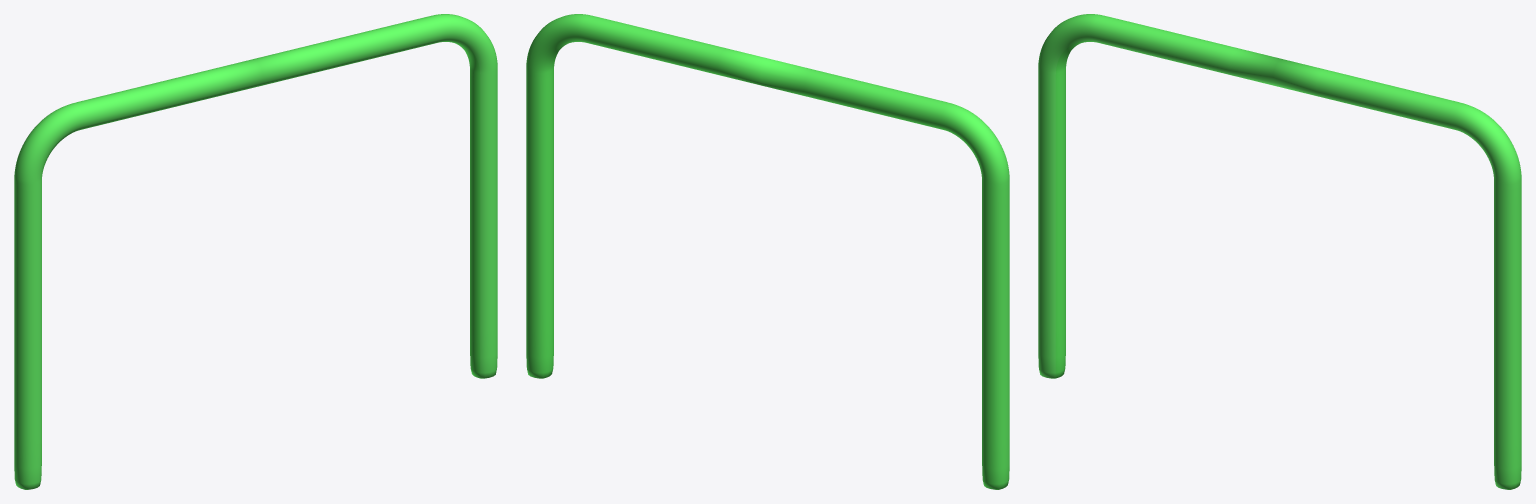
Rendered from trap_fencebig_3.glb.
3 renders of one model, left to right at view 1: azimuth 30°, elevation 25°; view 2: azimuth 150°, elevation 25°; view 3: azimuth 330°, elevation 25°, orthographic.
Visible parts, largest first — view 1: Cube.030_visual; view 2: Cube.030_visual; view 3: Cube.030_visual.
Part boxes in pixels (bbox=[...]): Cube.030_visual: bbox=[14, 14, 497, 489]; Cube.030_visual: bbox=[526, 14, 1009, 489]; Cube.030_visual: bbox=[1038, 14, 1521, 489].
Size of what is drawn, in the model's own units: 4.14 by 3.06 by 0.2071.
Materials: 1 (1 with a texture image).
